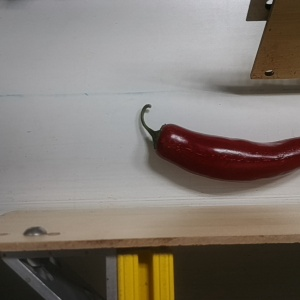Cut Point: (144, 121, 176, 158)
